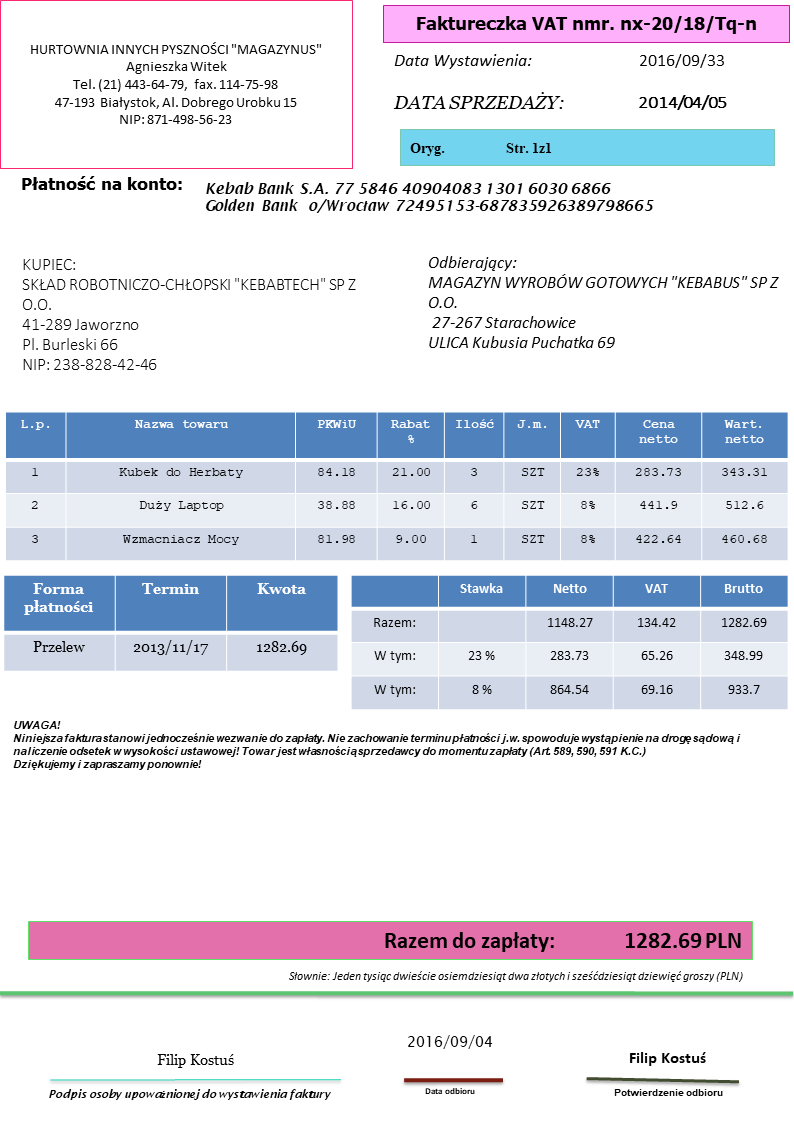Table: (4, 408, 790, 564), (349, 573, 790, 713), (2, 574, 338, 673)
TextBox: (9, 714, 744, 773), (18, 252, 359, 377), (425, 252, 784, 355), (24, 40, 324, 130), (201, 179, 657, 217), (381, 924, 745, 955), (283, 964, 744, 985), (410, 13, 759, 36), (45, 1086, 337, 1104), (390, 88, 565, 115), (14, 172, 184, 196), (404, 135, 554, 160), (388, 47, 533, 71), (634, 89, 730, 114), (404, 1027, 497, 1052), (624, 1046, 713, 1067), (152, 1048, 236, 1070), (611, 1084, 725, 1100), (635, 51, 727, 70), (418, 1082, 480, 1099)
